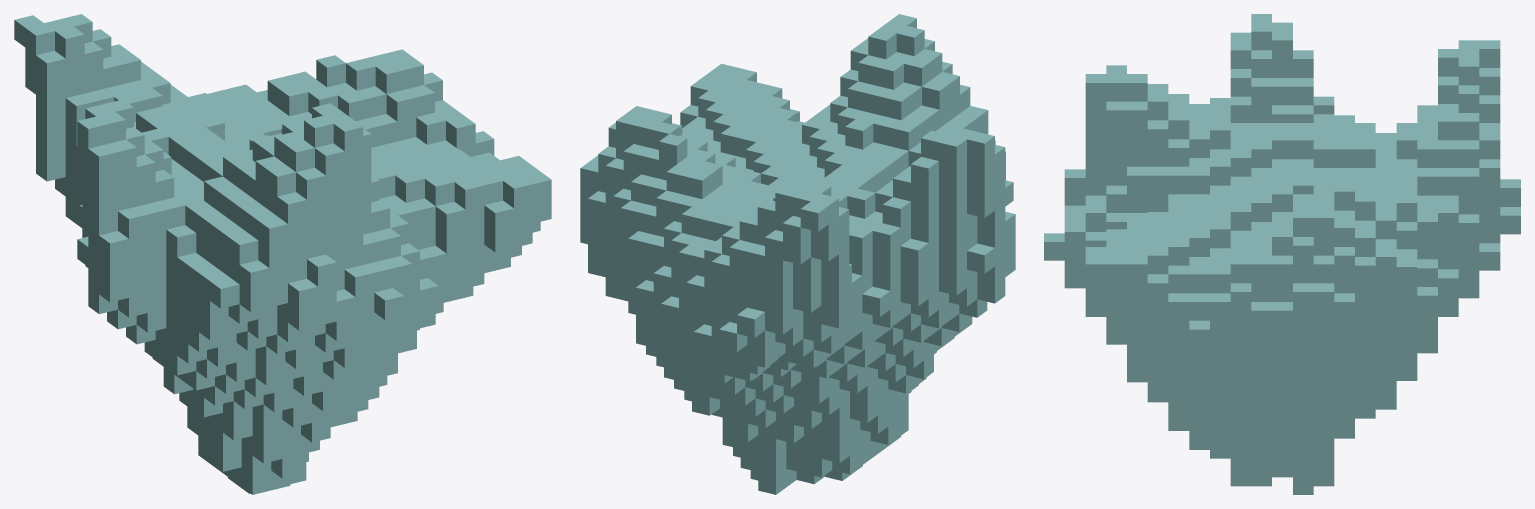
File: BigCoral1.fbx
The picture shows the model from 3 angles, left to right: view 1: azimuth 30°, elevation 25°; view 2: azimuth 150°, elevation 25°; view 3: azimuth 270°, elevation 25°; orthographic projection. The views are drawn at different scales.
Parts seen in each view (by area): view 1: Landscape.011; view 2: Landscape.011; view 3: Landscape.011.
Boxes of the visible parts, <box> form: Landscape.011: <box>14,14,551,494</box>; Landscape.011: <box>580,14,1015,494</box>; Landscape.011: <box>1044,14,1520,494</box>.
Size of the model in its own units: 92.51 by 92.51 by 101.
